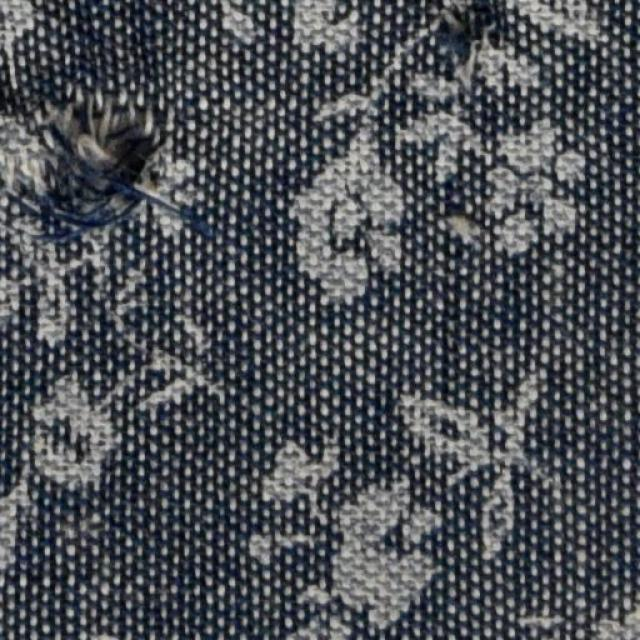Snag: (0, 96, 180, 254), (423, 1, 510, 107)
